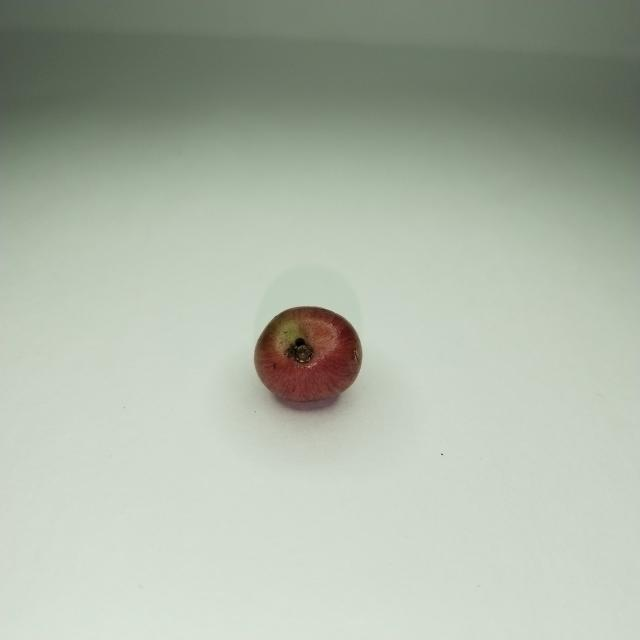Infectado: (252, 307, 365, 413)
